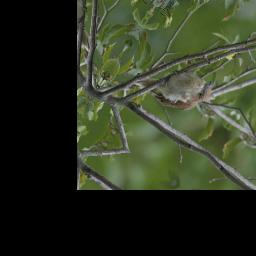Cuckoo: (133, 46, 218, 125)
